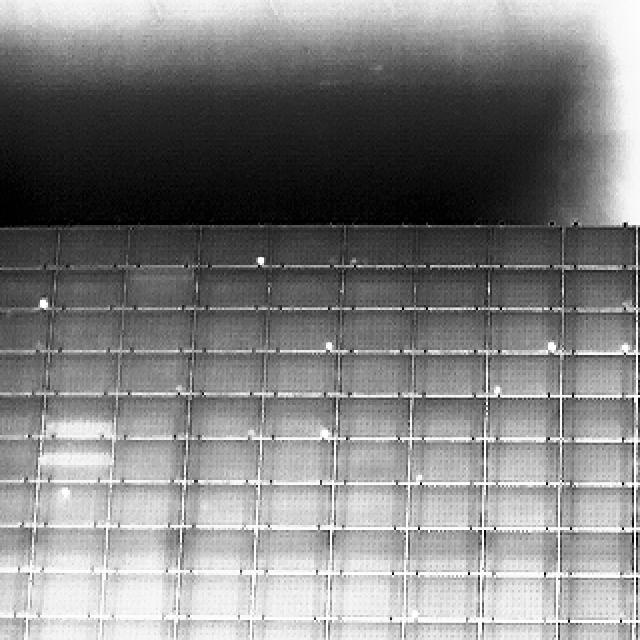Hotspots: (37, 449, 112, 471), (43, 416, 114, 437), (60, 486, 72, 502), (410, 608, 420, 622), (174, 384, 187, 394), (320, 428, 330, 440), (493, 385, 504, 395), (38, 299, 49, 309), (618, 299, 630, 308), (324, 340, 333, 351), (256, 254, 265, 264), (414, 473, 424, 482), (246, 427, 256, 436), (622, 341, 630, 352), (350, 256, 358, 266)
PV-modules: (250, 526, 332, 578), (330, 432, 411, 483), (258, 431, 335, 484), (175, 567, 255, 618), (111, 389, 191, 440), (403, 570, 481, 622), (187, 345, 268, 395), (41, 389, 118, 441), (184, 390, 264, 440), (191, 259, 271, 309), (44, 344, 122, 395), (269, 260, 348, 310), (335, 348, 414, 398), (182, 432, 261, 482), (414, 262, 496, 310), (125, 259, 202, 310), (45, 305, 125, 354), (108, 431, 188, 480), (342, 260, 420, 310), (102, 567, 180, 617), (260, 390, 338, 440), (117, 345, 195, 395), (406, 527, 484, 577), (110, 478, 188, 528), (182, 478, 260, 528), (413, 308, 494, 356), (53, 260, 130, 310), (410, 349, 488, 398), (31, 568, 109, 617), (179, 526, 257, 575), (106, 525, 184, 574), (40, 430, 116, 480), (407, 438, 484, 487), (33, 526, 110, 575), (331, 528, 408, 577), (263, 347, 340, 396), (559, 484, 637, 532), (484, 529, 562, 577), (559, 531, 638, 578), (330, 572, 409, 619), (481, 574, 558, 622), (332, 394, 412, 440), (252, 572, 332, 618), (188, 307, 268, 353), (37, 478, 112, 527), (123, 306, 201, 353), (490, 264, 566, 312), (488, 436, 564, 484), (254, 482, 333, 528), (331, 482, 410, 528), (556, 575, 634, 621), (336, 308, 414, 354), (559, 397, 635, 444), (490, 310, 566, 357), (409, 224, 494, 266), (485, 484, 562, 530), (562, 310, 640, 355), (412, 396, 490, 441), (405, 483, 483, 528), (265, 223, 346, 266), (486, 351, 560, 398), (265, 308, 340, 354), (562, 268, 640, 312), (55, 222, 131, 267), (488, 397, 565, 441), (559, 353, 636, 397), (558, 440, 634, 484), (126, 222, 201, 266), (196, 223, 270, 267), (560, 226, 637, 268), (339, 223, 414, 266), (491, 225, 567, 267), (0, 262, 57, 312), (0, 221, 60, 267), (0, 302, 52, 352), (0, 388, 47, 439), (0, 346, 48, 395), (170, 612, 252, 640), (98, 612, 176, 640), (24, 612, 102, 640), (0, 428, 42, 480), (250, 615, 326, 640), (0, 475, 38, 525), (0, 525, 35, 575), (326, 617, 402, 640), (554, 620, 634, 640), (400, 620, 480, 640), (478, 620, 556, 640), (0, 568, 31, 616), (0, 612, 26, 640), (636, 437, 640, 485), (636, 530, 640, 578), (636, 575, 640, 620), (636, 485, 640, 530), (638, 395, 640, 443), (638, 225, 640, 270), (638, 268, 640, 312), (638, 313, 640, 355), (638, 353, 640, 395), (636, 620, 640, 640)
